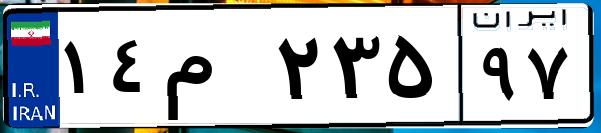1: (57, 26, 110, 100)
2: (270, 28, 330, 110)
3: (330, 28, 385, 110)
4: (110, 28, 158, 98)
5: (385, 28, 445, 110)
7: (525, 38, 570, 115)
9: (475, 38, 525, 113)
م: (158, 20, 270, 120)
